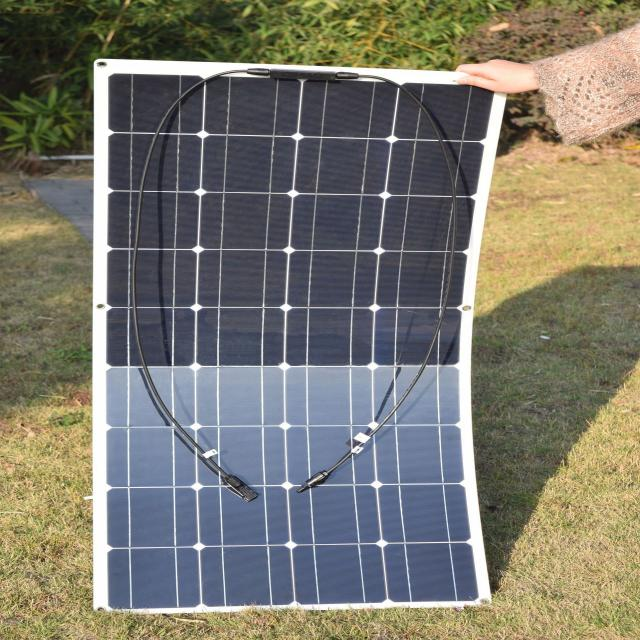no faulty: (104, 80, 483, 615)
